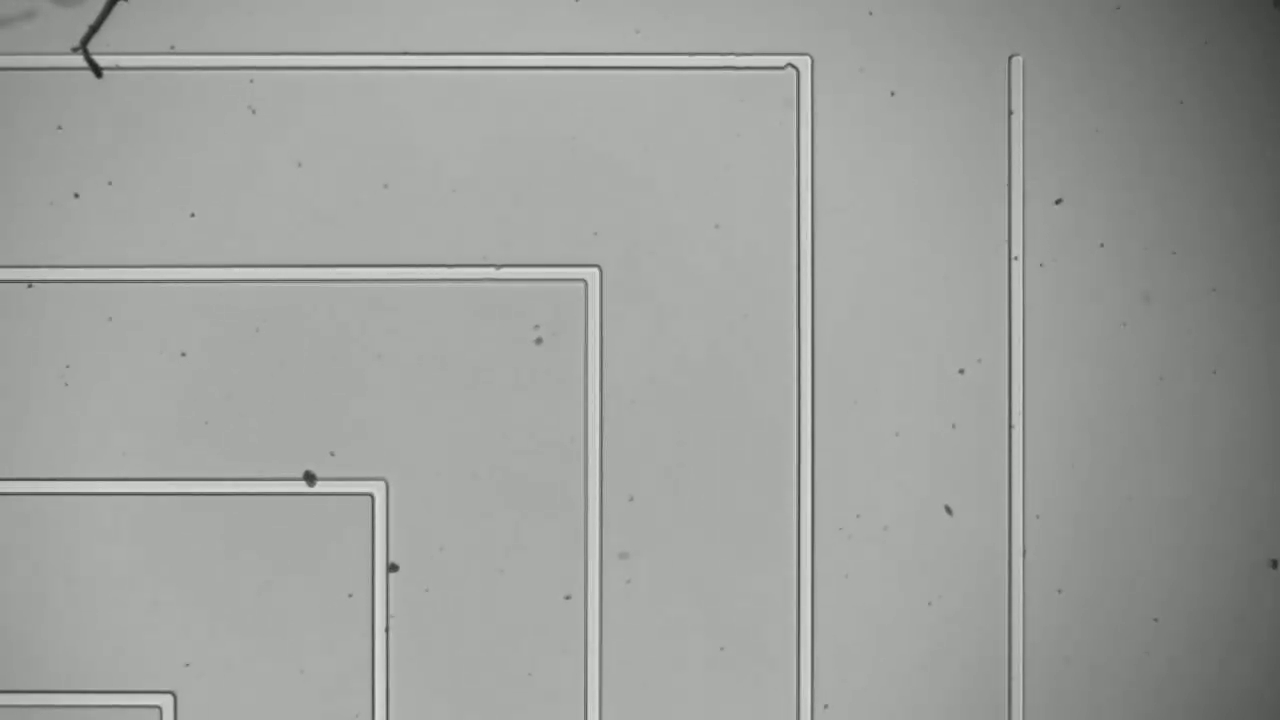edge_bite: (776, 49, 804, 74)
stains_enbedded: (297, 460, 329, 501)
